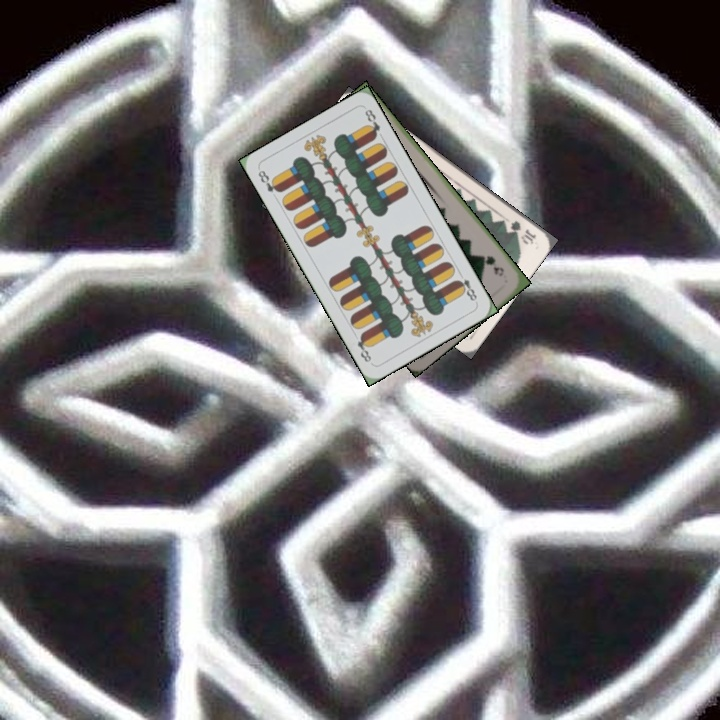E8: (452, 268, 480, 304), (254, 166, 283, 195)
G10: (506, 217, 539, 247)
G9: (478, 251, 507, 279)
